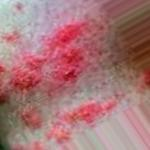Ants: (42, 22, 90, 86), (61, 93, 120, 130), (8, 50, 46, 93), (18, 102, 45, 132), (47, 125, 71, 143), (1, 30, 20, 44), (12, 1, 23, 12)
